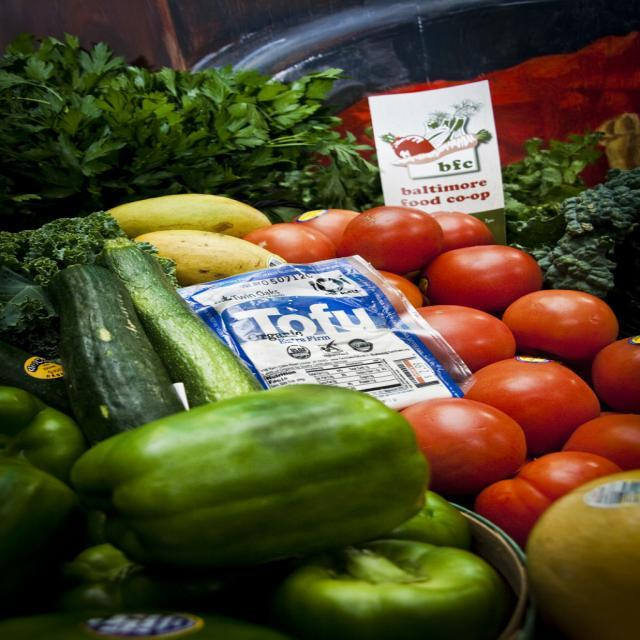Zucchini: (96, 231, 276, 413), (48, 259, 188, 443)
